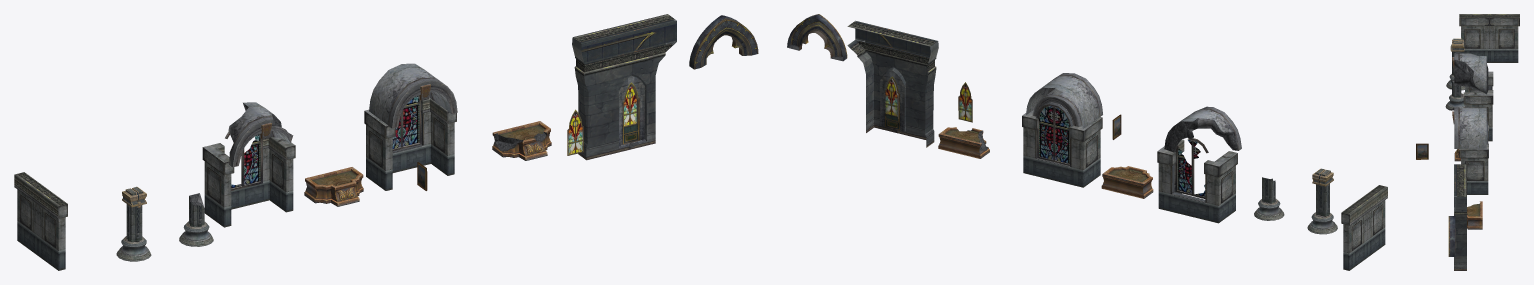
Rendered from f_103_door_a.FBX.
3 views of the same model, side by side, from view 1: azimuth 30°, elevation 25°; view 2: azimuth 150°, elevation 25°; view 3: azimuth 270°, elevation 25° (orthographic). The views are drawn at different scales.
Visible parts, largest first — view 1: w_103_door_15, w_103_door_06, w_103_door_08, w_103_door_19, w_103_door_09, w_103_door_04, w_103_door_18, w_103_door_07, w_103_door_16, w_103_door_02, w_103_door_10, w_103_door_03 (+2 smaller); view 2: w_103_door_15, w_103_door_06, w_103_door_08, w_103_door_19, w_103_door_09, w_103_door_10, w_103_door_04, w_103_door_16, w_103_door_07, w_103_door_02, w_103_door_18, w_103_door_05 (+2 smaller); view 3: w_103_door_19, w_103_door_09, w_103_door_15, w_103_door_04, w_103_door_08, w_103_door_06, w_103_door_18, w_103_door_03, w_103_door_02, w_103_door_16, w_103_door_11.
Boxes of the visible parts, x1,y1,x2,y2 form: w_103_door_15: (572, 14, 676, 160); w_103_door_06: (202, 136, 295, 227); w_103_door_08: (364, 98, 456, 190); w_103_door_19: (14, 172, 67, 270); w_103_door_09: (369, 63, 457, 128); w_103_door_04: (228, 102, 293, 167); w_103_door_18: (492, 121, 551, 160); w_103_door_07: (304, 167, 363, 206); w_103_door_16: (689, 15, 758, 69); w_103_door_02: (116, 186, 151, 261); w_103_door_10: (392, 95, 421, 151); w_103_door_03: (179, 193, 213, 246); w_103_door_15: (847, 20, 938, 147); w_103_door_06: (1157, 139, 1237, 223); w_103_door_08: (1022, 110, 1102, 187); w_103_door_19: (1341, 185, 1387, 270); w_103_door_09: (1026, 73, 1102, 128); w_103_door_10: (1036, 104, 1070, 165); w_103_door_04: (1164, 106, 1241, 152); w_103_door_16: (787, 14, 847, 61); w_103_door_07: (1101, 166, 1153, 198); w_103_door_02: (1307, 168, 1337, 234); w_103_door_18: (938, 127, 989, 158); w_103_door_05: (1175, 138, 1208, 198); w_103_door_19: (1459, 14, 1519, 62); w_103_door_09: (1452, 107, 1488, 148); w_103_door_15: (1454, 164, 1466, 270); w_103_door_04: (1452, 53, 1488, 94); w_103_door_08: (1459, 125, 1488, 194); w_103_door_06: (1463, 71, 1493, 141); w_103_door_18: (1467, 201, 1482, 229); w_103_door_03: (1445, 79, 1464, 110); w_103_door_02: (1446, 38, 1464, 90); w_103_door_16: (1448, 216, 1455, 256); w_103_door_11: (1416, 143, 1428, 159).
Bounding box in the file's own units: 7649 × 1253 × 1424.
